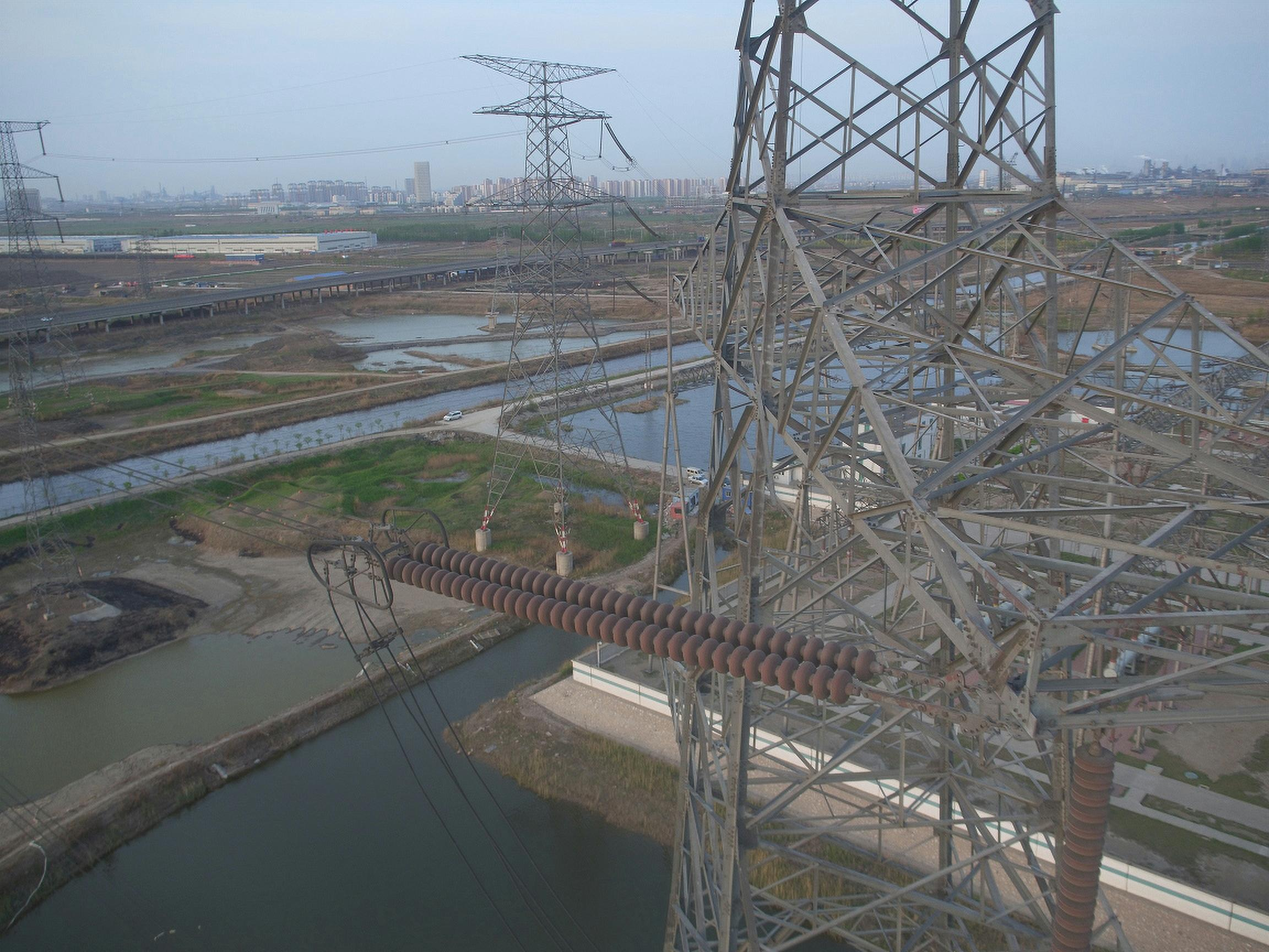insulator: (380, 537, 881, 709), (1045, 740, 1119, 952)
